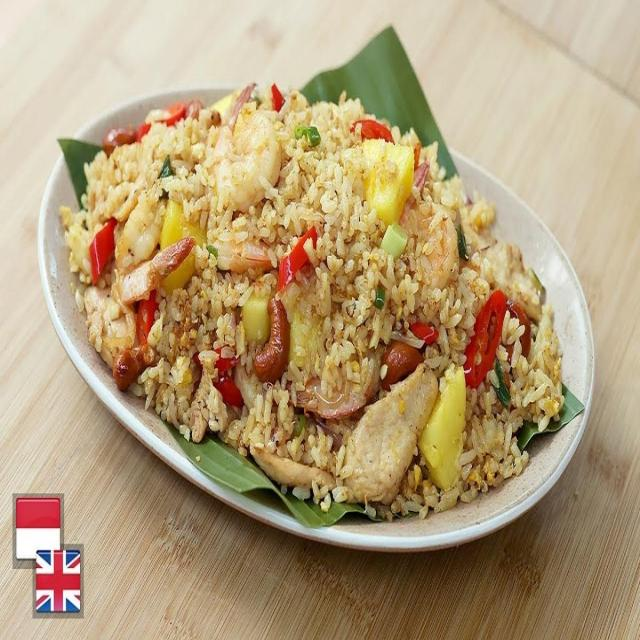Nasi Goreng: (59, 80, 566, 518)
